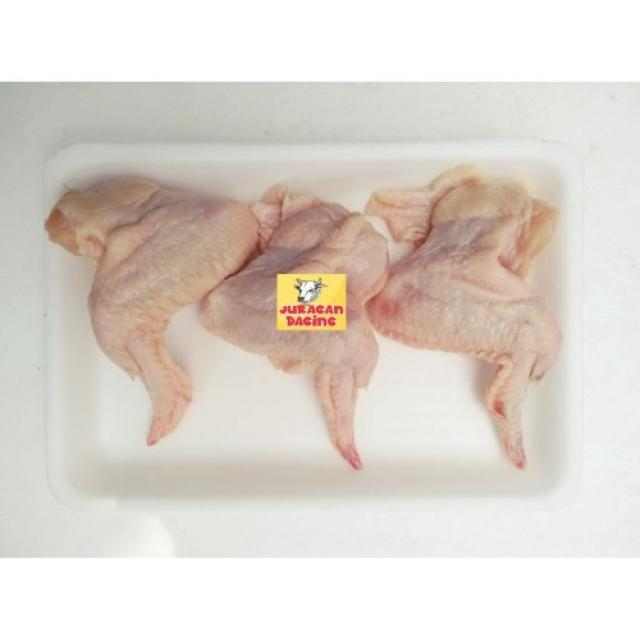chicken: (49, 178, 262, 448), (368, 169, 556, 471), (198, 198, 386, 474)
